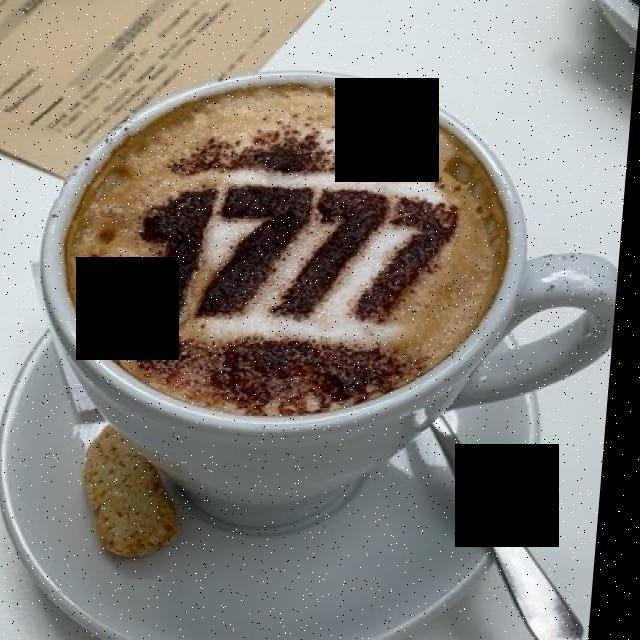cappuccino: (76, 90, 502, 406)
